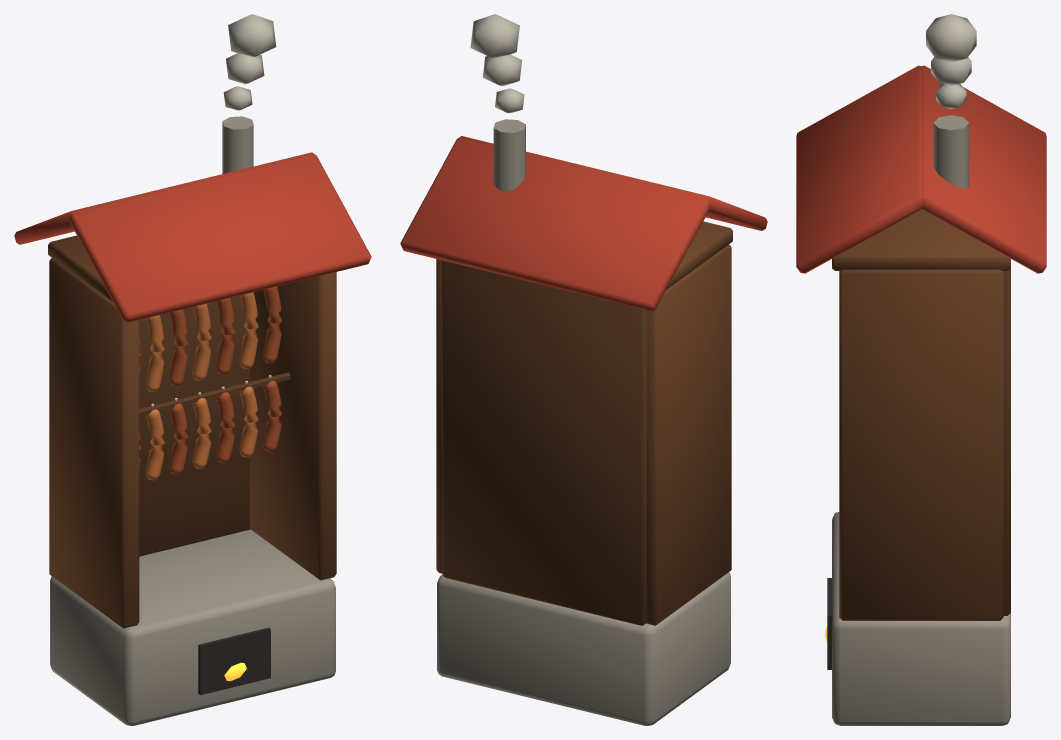
The model's file is defumador.glb.
3 renders of one model, left to right at view 1: azimuth 30°, elevation 25°; view 2: azimuth 150°, elevation 25°; view 3: azimuth 270°, elevation 25°, orthographic. The views are drawn at different scales.
Visible parts, largest first — view 1: Defumador; view 2: Defumador; view 3: Defumador.
Boxes of the visible parts, x1,y1,x2,y2 form: Defumador: (14, 14, 371, 725); Defumador: (400, 14, 767, 725); Defumador: (796, 14, 1046, 725).
Size of the model in its own units: 1.05 by 2.58 by 0.8399.
